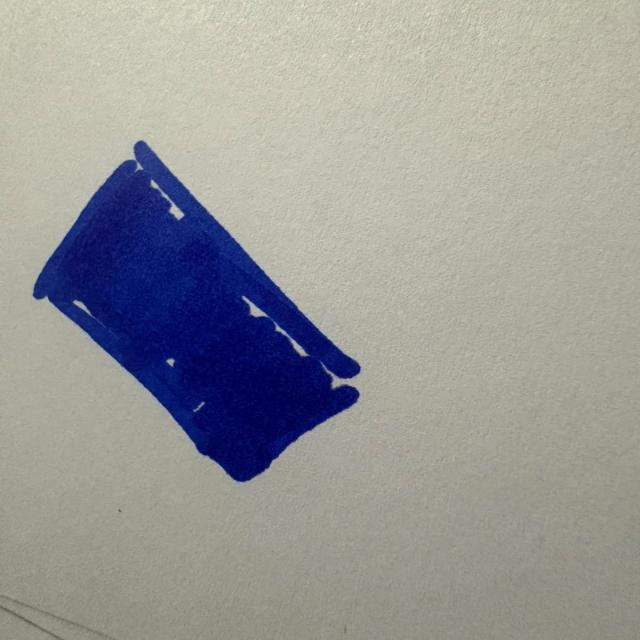Rectangle: (33, 141, 360, 482)
